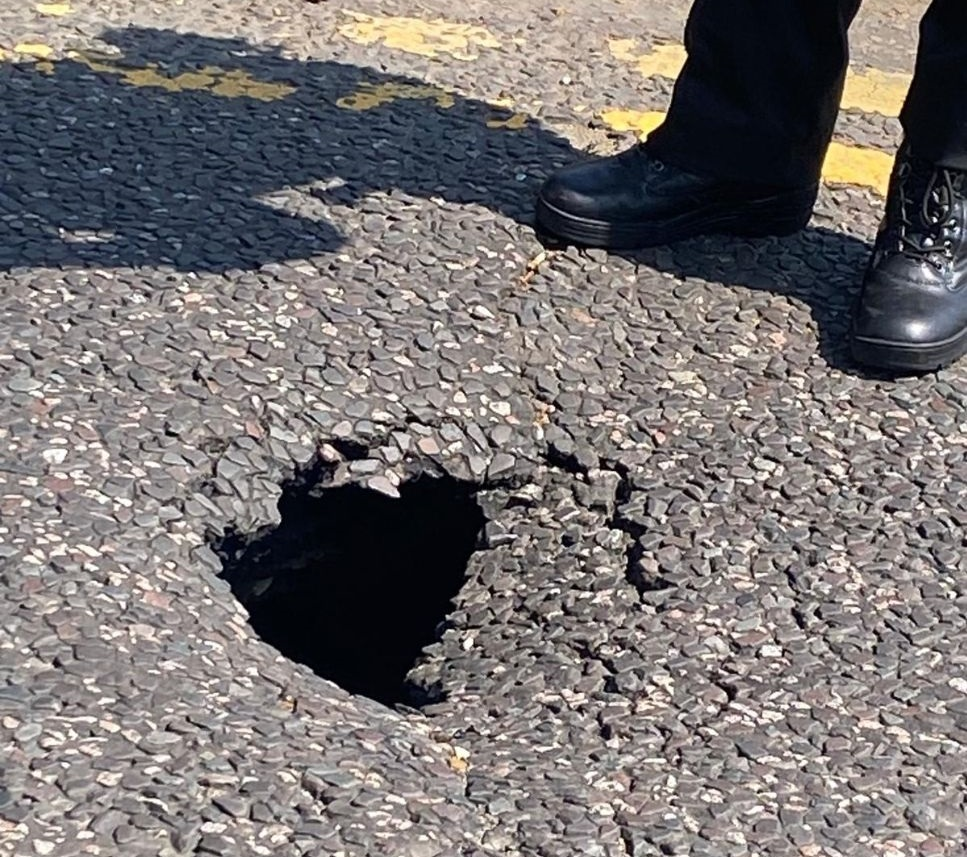Hole_in_the_road: (138, 382, 683, 763)
